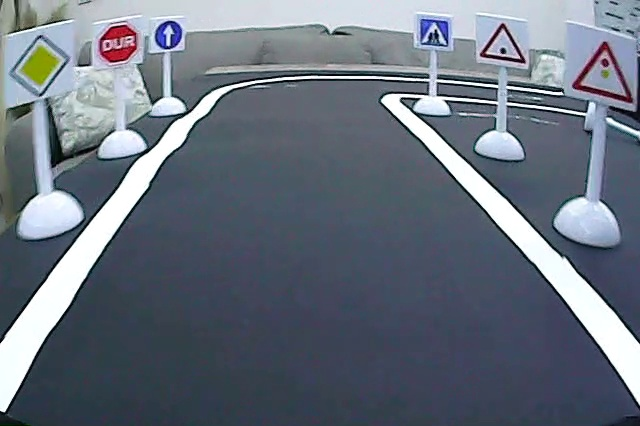green light: (476, 18, 529, 67)
red light: (569, 37, 636, 109)
school crossing: (416, 18, 452, 50)
stop sign: (97, 19, 140, 69)
